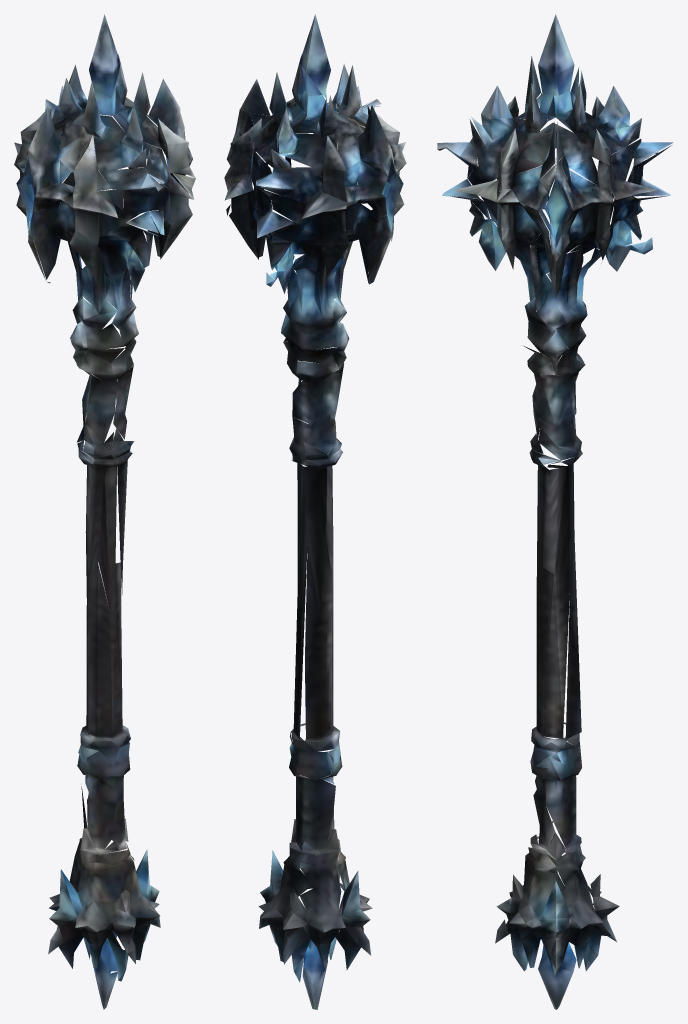
File: frostspire_maul.glb
The picture shows the model from 3 angles, left to right: view 1: azimuth 30°, elevation 25°; view 2: azimuth 150°, elevation 25°; view 3: azimuth 270°, elevation 25°; orthographic projection.
Parts seen in each view (by area): view 1: frostspire_maul; view 2: frostspire_maul; view 3: frostspire_maul.
Part boxes in pixels (x1,y1,x2,y2): frostspire_maul: (14, 14, 195, 1009); frostspire_maul: (224, 14, 406, 1009); frostspire_maul: (437, 14, 673, 1009).
Bounding box in the file's own units: 0.2259 × 1.35 × 0.2937.
1 material, 1 textured.
